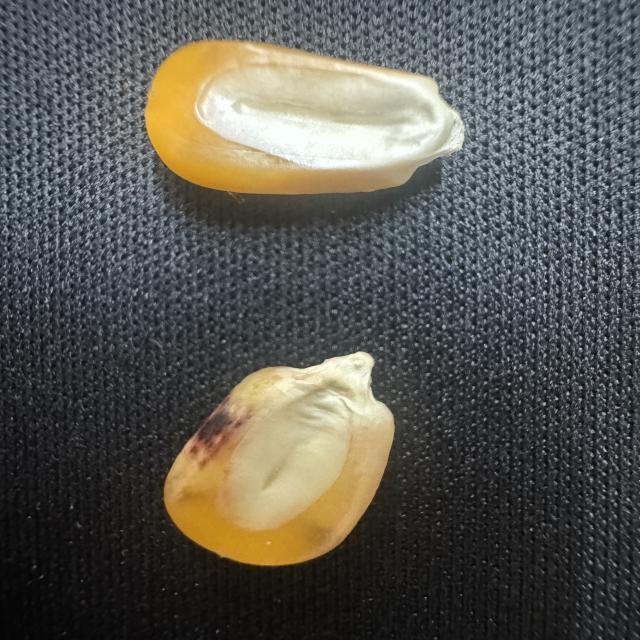Bad-Seed: (155, 347, 399, 569)
Good-Seed: (137, 34, 473, 199)
